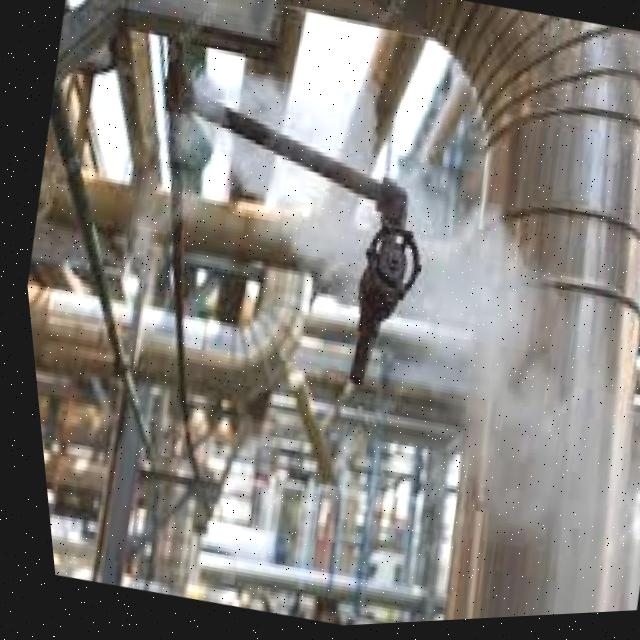corrosion: (90, 42, 541, 442)
